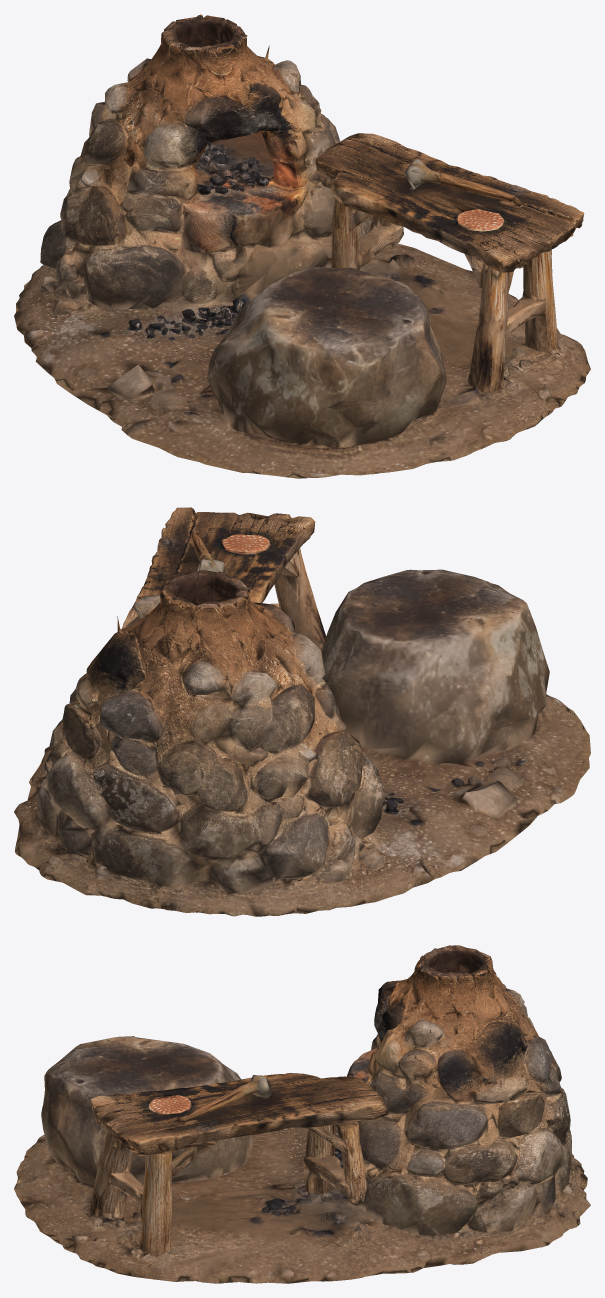
Rendered from primitive_smithy.glb.
The picture shows the model from 3 angles, top to bottom: view 1: azimuth 30°, elevation 25°; view 2: azimuth 150°, elevation 25°; view 3: azimuth 270°, elevation 25°; orthographic projection. The views are drawn at different scales.
Visible parts, largest first — view 1: Smithy; view 2: Smithy; view 3: Smithy.
Boxes of the visible parts, x1,y1,x2,y2 form: Smithy: (14, 14, 590, 478); Smithy: (14, 507, 590, 916); Smithy: (14, 945, 590, 1283).
Bounding box in the file's own units: 2.35 × 1.31 × 3.
Materials: 1 (1 with a texture image).
